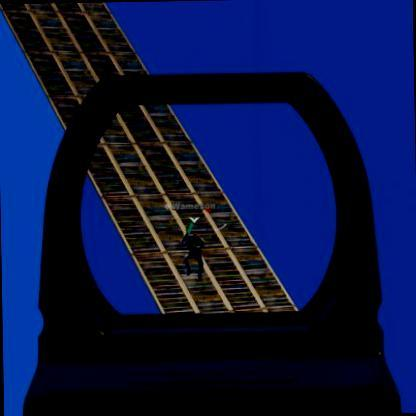person: (180, 232, 206, 278)
